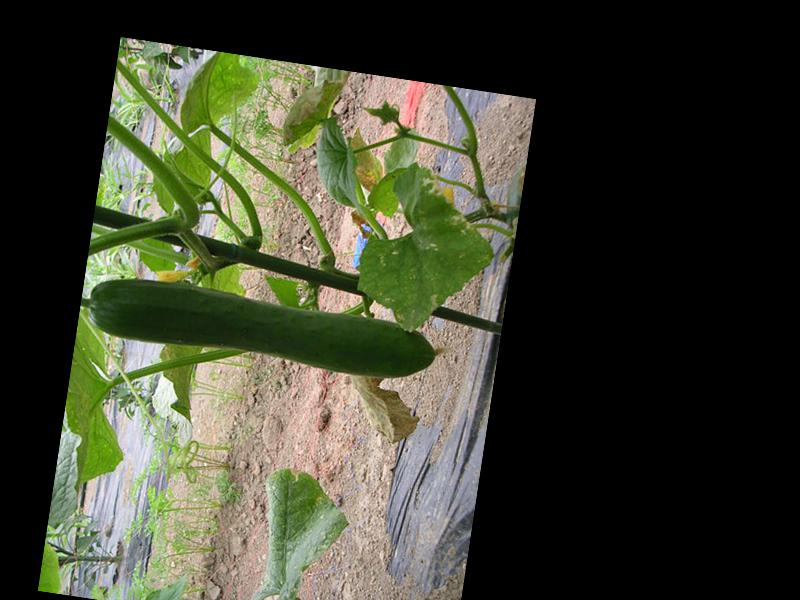Cucumber: (84, 270, 449, 387)
